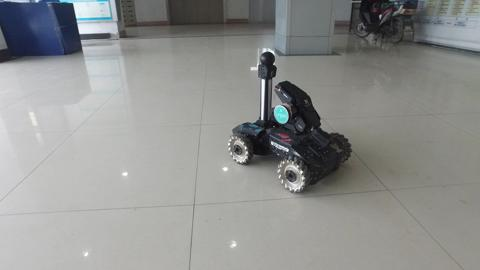chariot: (226, 50, 353, 193)
